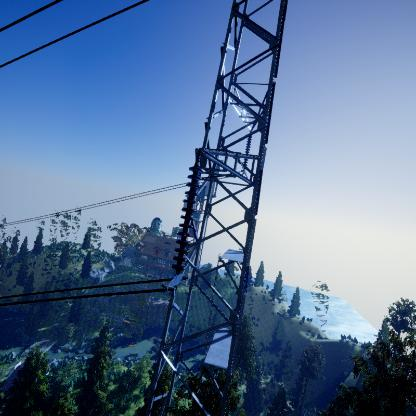insulator: (172, 164, 204, 276)
